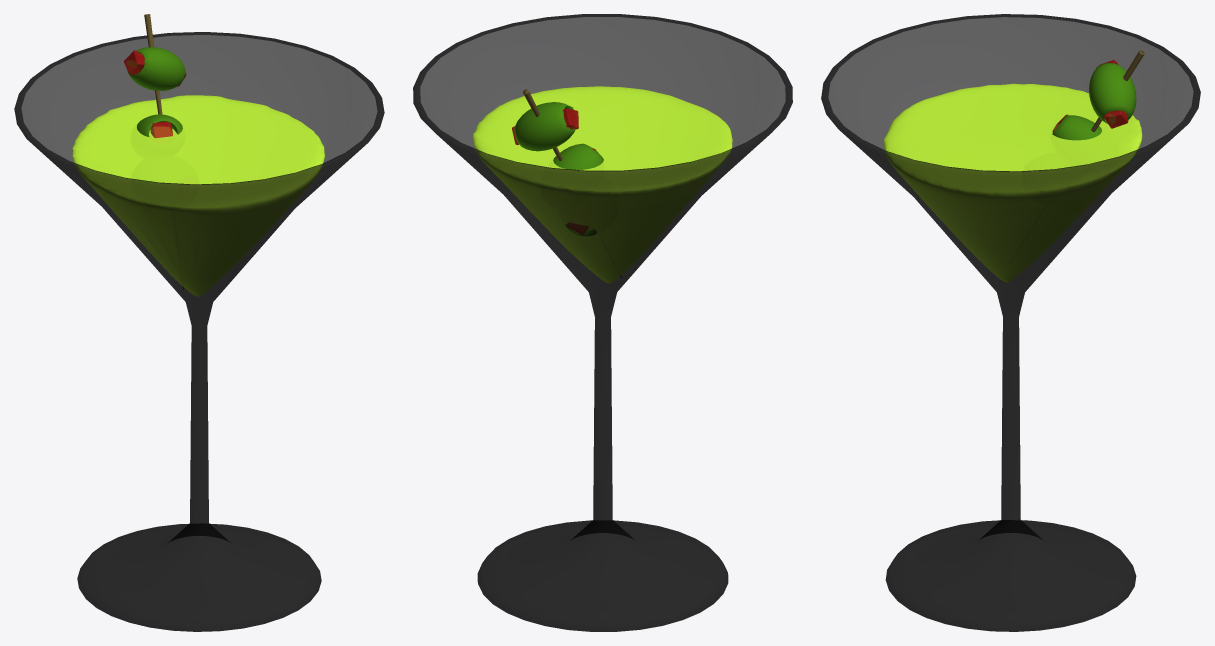
The model's file is martini.glb.
3 views of the same model, side by side, from view 1: azimuth 30°, elevation 25°; view 2: azimuth 150°, elevation 25°; view 3: azimuth 270°, elevation 25° (orthographic). The views are drawn at different scales.
Visible parts, largest first — view 1: Glass_Condensed Glass_0, Cone__0, Cube.003_Wood_0, Cube.003_Oli.001_0; view 2: Glass_Condensed Glass_0, Cone__0, Cube.003_Wood_0; view 3: Glass_Condensed Glass_0, Cone__0, Cube.003_Wood_0.
Part boxes in pixels (x1,y1,x2,y2): Glass_Condensed Glass_0: [14, 32, 384, 631]; Cone__0: [72, 95, 324, 296]; Cube.003_Wood_0: [127, 14, 185, 289]; Cube.003_Oli.001_0: [124, 50, 186, 138]; Glass_Condensed Glass_0: [413, 14, 792, 631]; Cone__0: [472, 86, 732, 283]; Cube.003_Wood_0: [514, 89, 621, 277]; Glass_Condensed Glass_0: [821, 14, 1200, 631]; Cone__0: [883, 83, 1142, 282]; Cube.003_Wood_0: [1052, 50, 1144, 140].
Size of the model in its own units: 0.1367 by 0.2112 by 0.1362.
4 materials, 2 textured.
